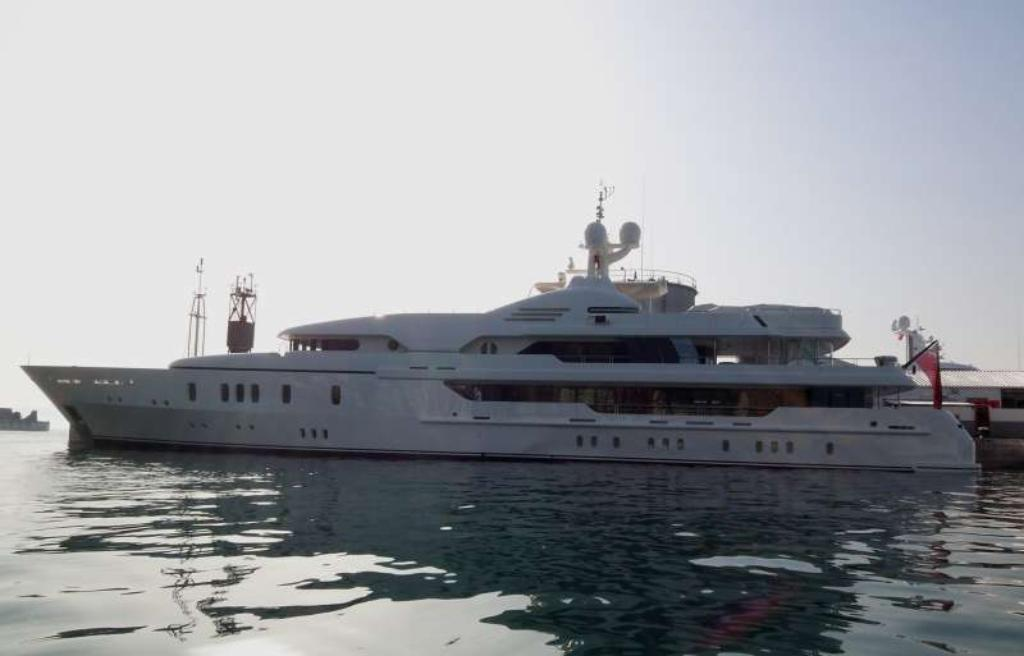PassengerShip: (10, 185, 982, 467)
